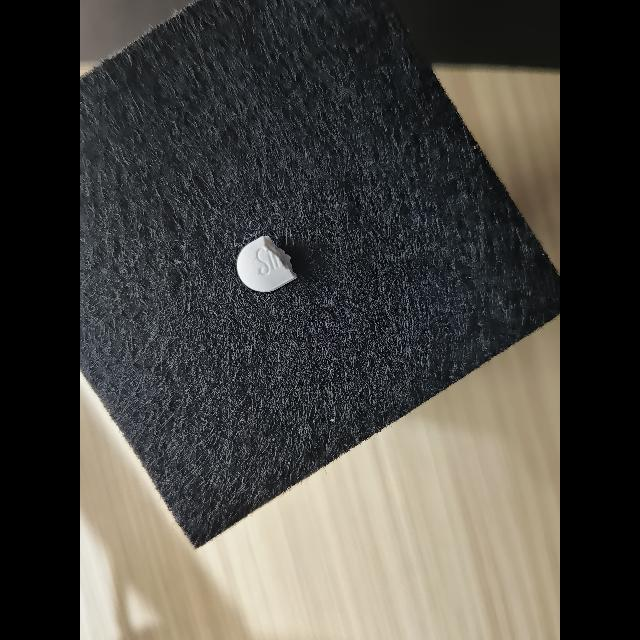Chipped Pill: (237, 236, 297, 292)
